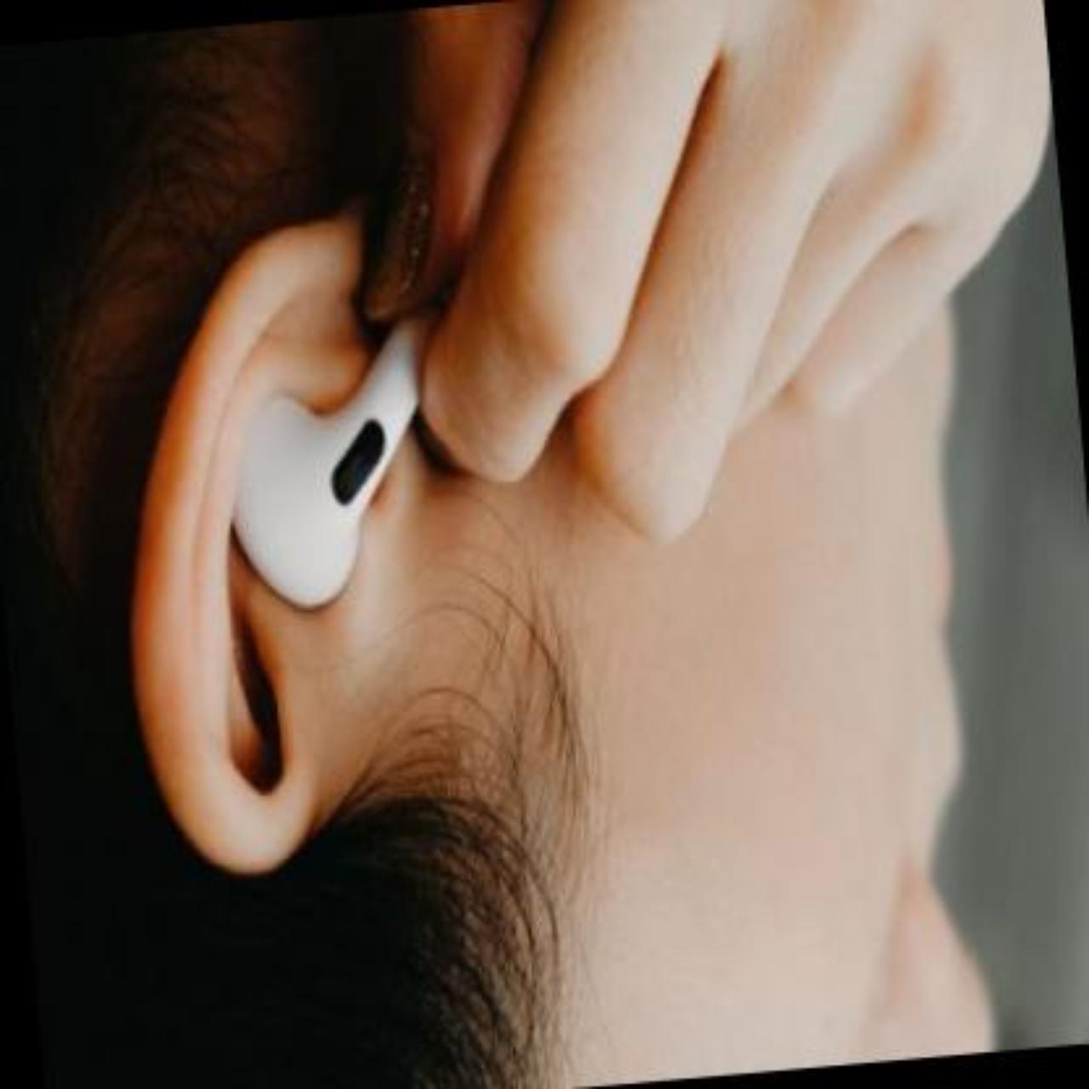Airpods_Units: (194, 268, 482, 636)
